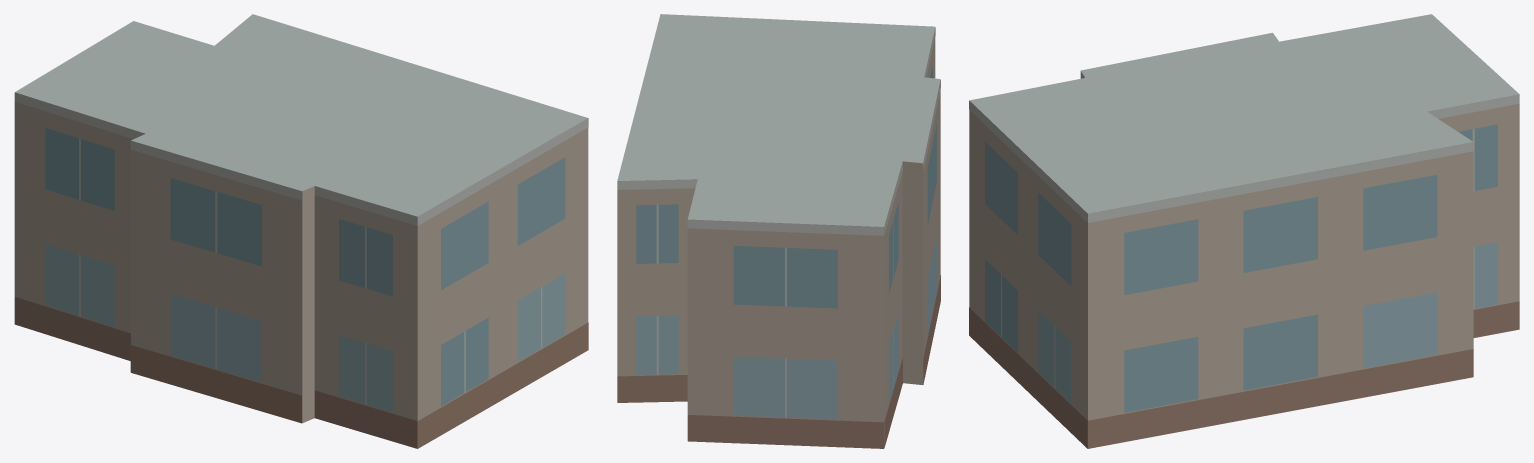
File: survey-upis-32732458.glb
3 views of the same model, side by side, from view 1: azimuth 30°, elevation 25°; view 2: azimuth 150°, elevation 25°; view 3: azimuth 270°, elevation 25° (orthographic). The views are drawn at different scales.
Visible parts, largest first — view 1: survey-upis-32732458.tmp; view 2: survey-upis-32732458.tmp; view 3: survey-upis-32732458.tmp.
Boxes of the visible parts, <box> form: survey-upis-32732458.tmp: <box>14,14,588,448</box>; survey-upis-32732458.tmp: <box>617,14,940,448</box>; survey-upis-32732458.tmp: <box>969,14,1519,448</box>.
Bounding box in the file's own units: 11.12 × 6.1 × 12.95.
